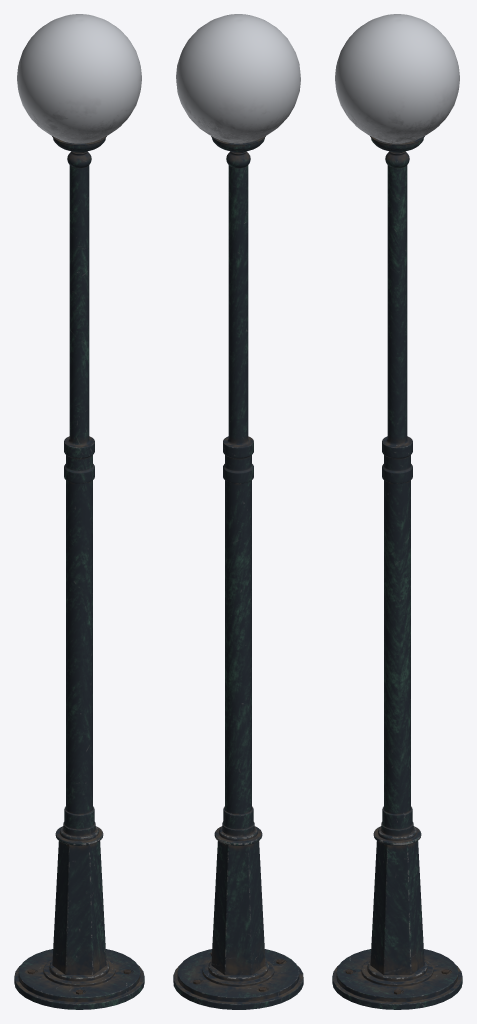
The model's file is Lamp3.obj.
The picture shows the model from 3 angles, left to right: view 1: azimuth 90°, elevation 25°; view 2: azimuth 210°, elevation 25°; view 3: azimuth 270°, elevation 25°; orthographic projection.
Parts seen in each view (by area): view 1: StrLmp1_Post, StrLmp1_Lamp, StrLmp1_Stand; view 2: StrLmp1_Post, StrLmp1_Lamp, StrLmp1_Stand; view 3: StrLmp1_Post, StrLmp1_Lamp, StrLmp1_Stand.
Part boxes in pixels (x1=…): StrLmp1_Post: x1=14, y1=167, x2=144, y2=1009; StrLmp1_Lamp: x1=17, y1=14, x2=141, y2=143; StrLmp1_Stand: x1=52, y1=136, x2=106, y2=170; StrLmp1_Post: x1=173, y1=167, x2=303, y2=1009; StrLmp1_Lamp: x1=176, y1=14, x2=300, y2=143; StrLmp1_Stand: x1=211, y1=136, x2=265, y2=170; StrLmp1_Post: x1=332, y1=167, x2=462, y2=1009; StrLmp1_Lamp: x1=335, y1=14, x2=459, y2=143; StrLmp1_Stand: x1=370, y1=136, x2=424, y2=170.
Bounding box in the file's own units: 0.2682 × 2.18 × 0.2682.
Materials: 1 (1 with a texture image).
